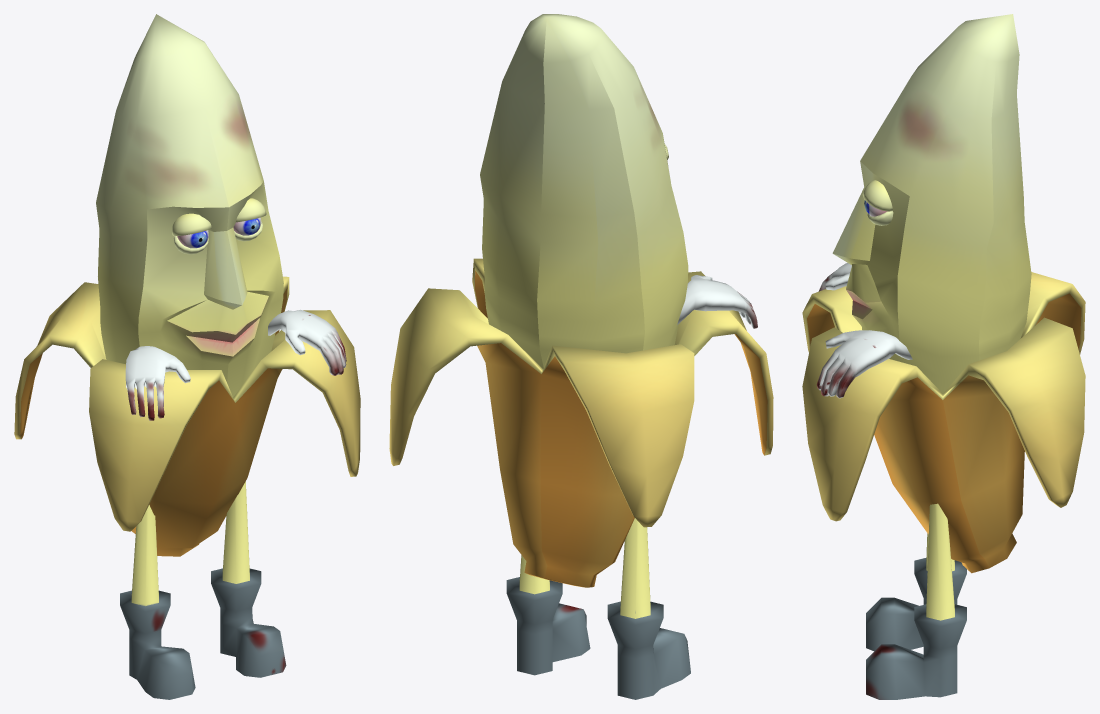
Rendered from smash_banana_monster_01.glb.
3 views of the same model, side by side, from view 1: azimuth 30°, elevation 25°; view 2: azimuth 150°, elevation 25°; view 3: azimuth 270°, elevation 25° (orthographic). The views are drawn at different scales.
Visible parts, largest first — view 1: main body, banana peel, legs, arms, eyelids; view 2: main body, banana peel, legs, arms; view 3: main body, banana peel, legs, arms, eyelids.
Part boxes in pixels (box(x1,y1,x2,y2)): main body: box(96, 14, 283, 397); banana peel: box(14, 276, 360, 556); legs: box(120, 481, 286, 699); arms: box(125, 309, 346, 420); eyelids: box(172, 198, 266, 254); main body: box(480, 14, 688, 368); banana peel: box(389, 258, 773, 587); legs: box(506, 518, 690, 699); arms: box(677, 275, 757, 328); main body: box(832, 14, 1031, 393); banana peel: box(802, 272, 1085, 573); legs: box(866, 503, 966, 699); arms: box(816, 263, 912, 398); eyelids: box(862, 180, 893, 225).
Size of the model in its own units: 3.15 by 7.06 by 2.78.
7 materials, 7 textured.
